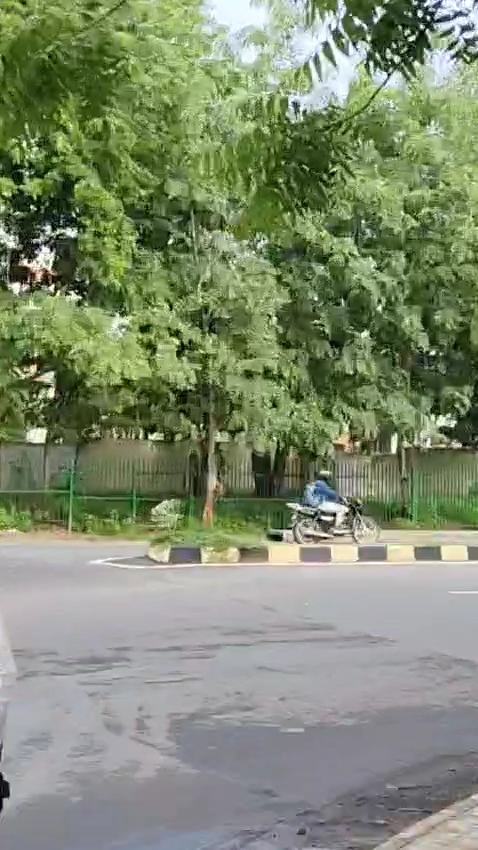BikeWithRider: (284, 466, 382, 545)
Helmet: (317, 466, 334, 484)
